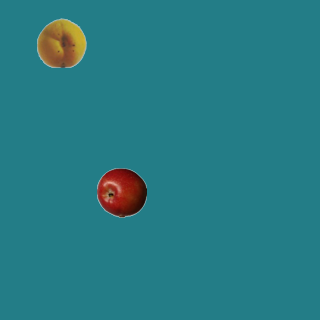Apple Braeburn: (96, 167, 146, 217)
Peach 2: (36, 17, 86, 67)
